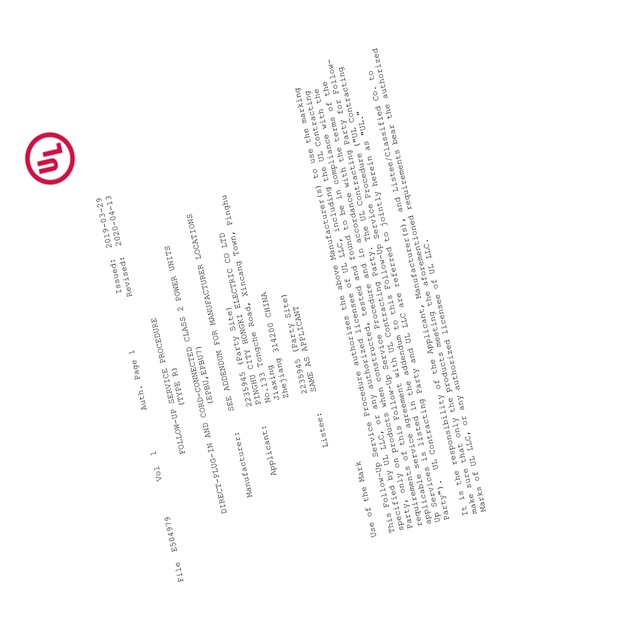ul: (25, 132, 75, 185)
